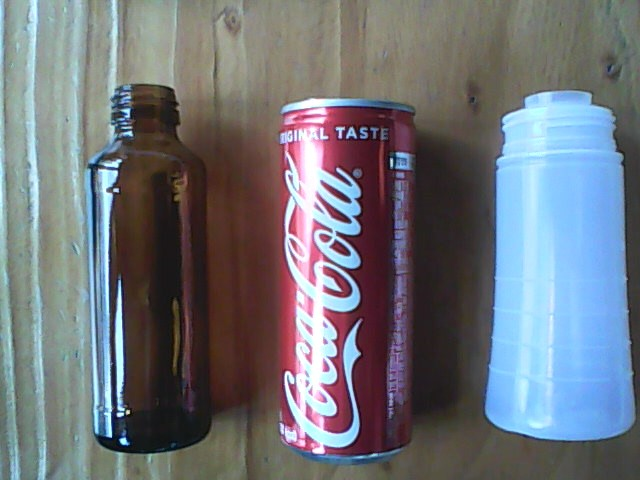Can: (274, 94, 416, 467)
Glass: (78, 82, 216, 456)
Plastic: (483, 88, 639, 448)
